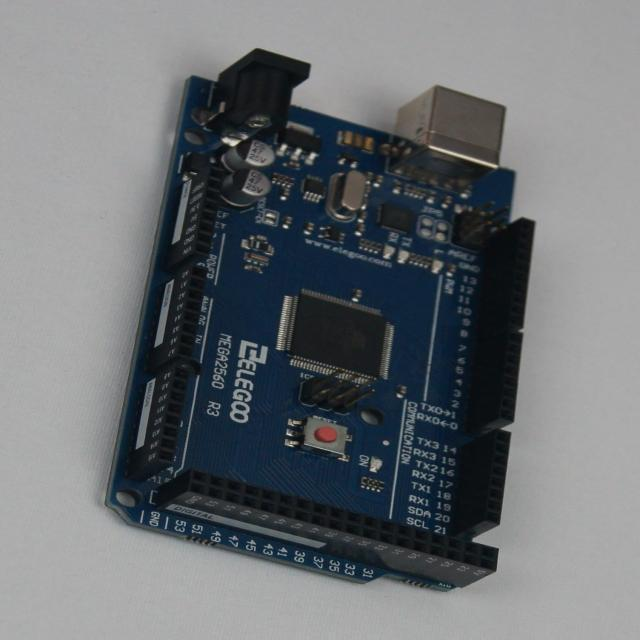Arduino Mega 2560 -Blue-: (107, 50, 534, 589)
